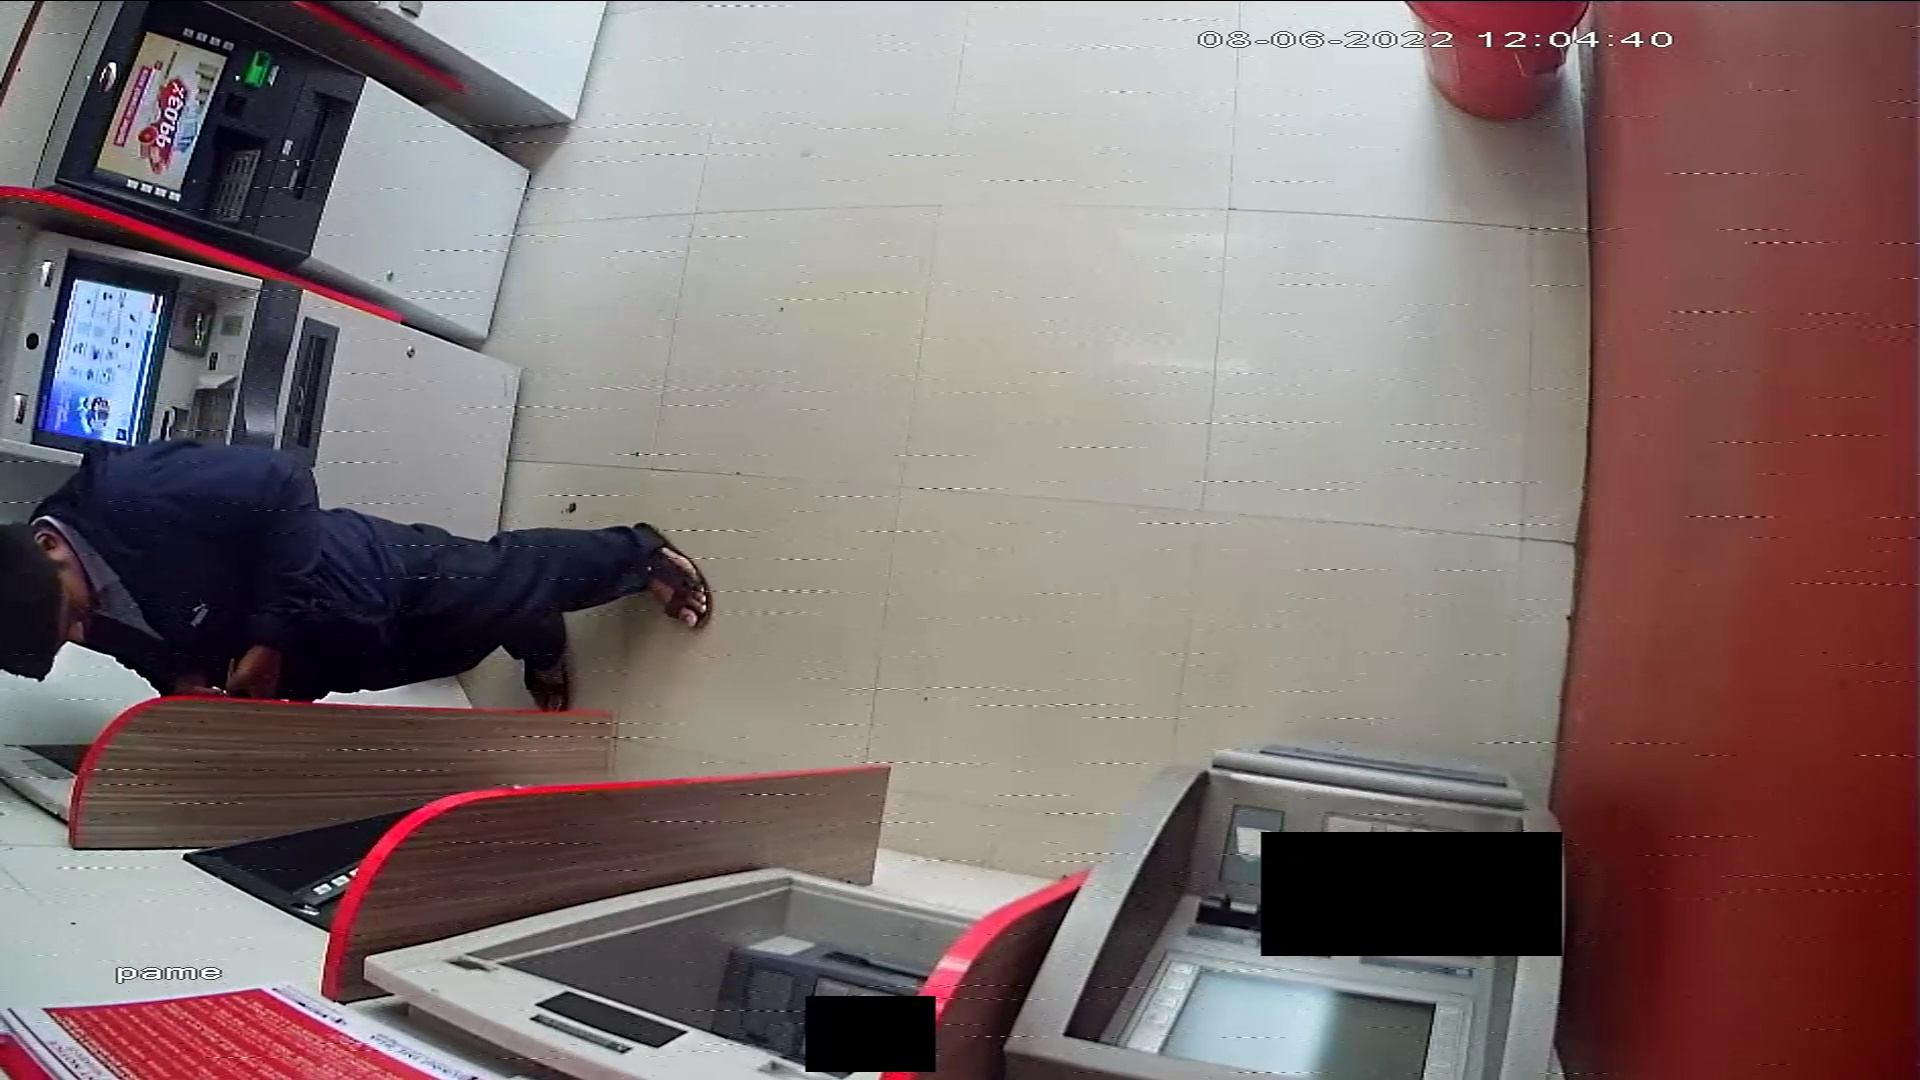person: (1, 438, 713, 715)
